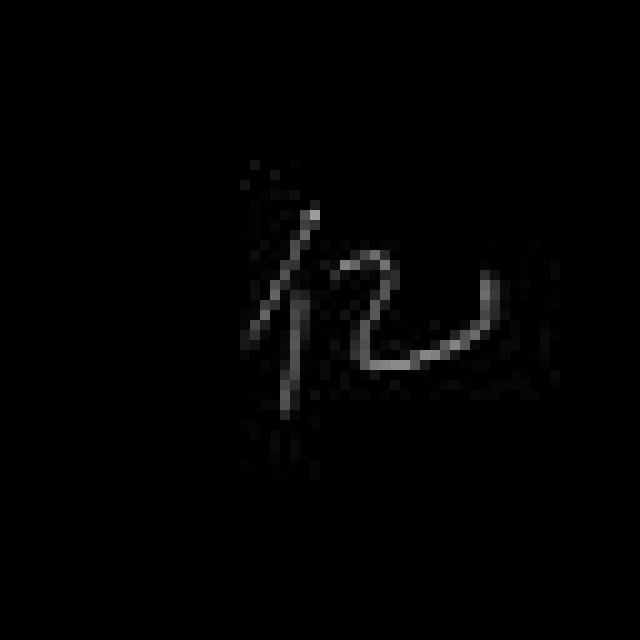100000 -a hundred thousand-: (237, 194, 508, 440)
